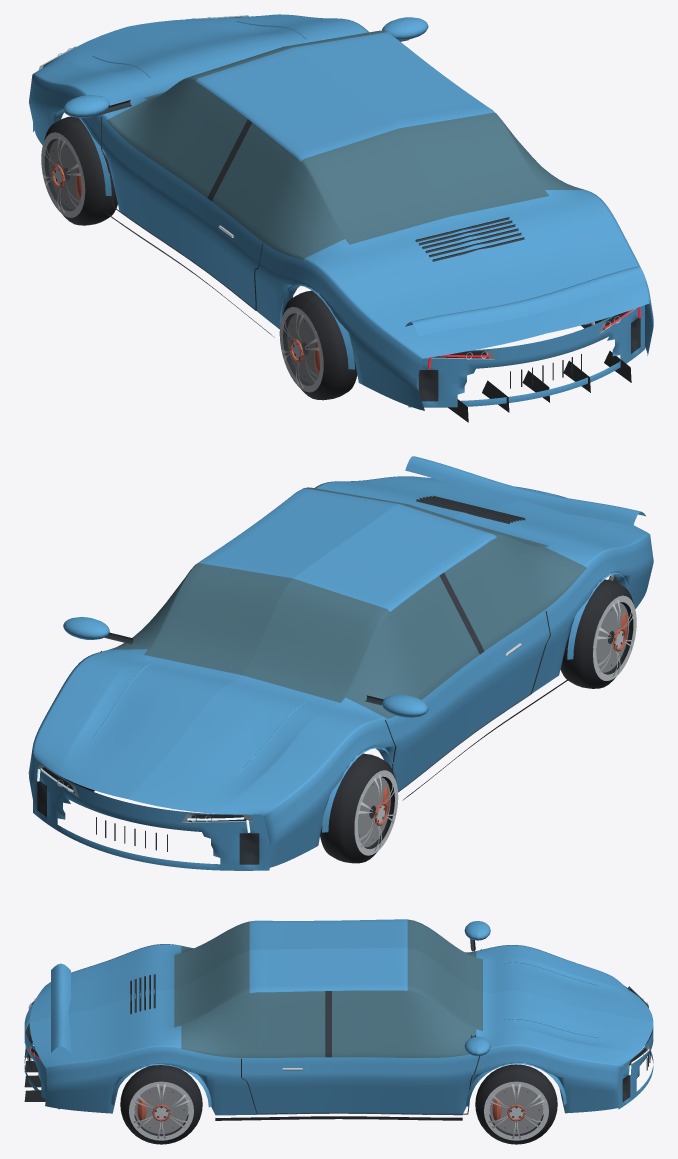
File: solaris_v_medium.glb
3 renders of one model, top to bottom at view 1: azimuth 30°, elevation 25°; view 2: azimuth 150°, elevation 25°; view 3: azimuth 270°, elevation 25°, orthographic. The views are drawn at different scales.
Visible parts, largest first — view 1: Body, Wheel_2, Wheel_0; view 2: Body, Wheel_0, Wheel_2; view 3: Body, Wheel_1, Wheel_3.
Part boxes in pixels (x1,y1,x2,y2): Body: (29, 14, 653, 422); Wheel_2: (279, 290, 357, 400); Wheel_0: (41, 116, 117, 225); Body: (28, 456, 653, 870); Wheel_0: (320, 753, 398, 863); Wheel_2: (560, 579, 636, 688); Body: (24, 919, 653, 1121); Wheel_1: (475, 1064, 557, 1144); Wheel_3: (120, 1065, 202, 1144).
Bounding box in the file's own units: 2.49 × 1.27 × 5.2.
